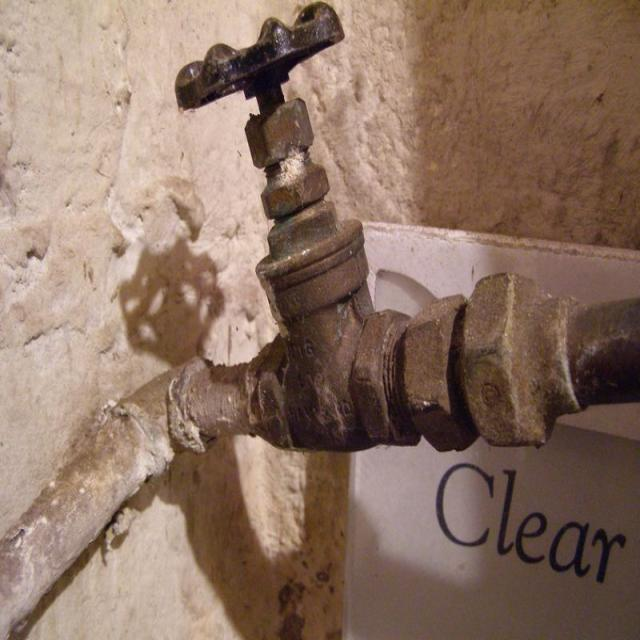Wheel Handle Valve Threaded: (174, 0, 476, 455)
